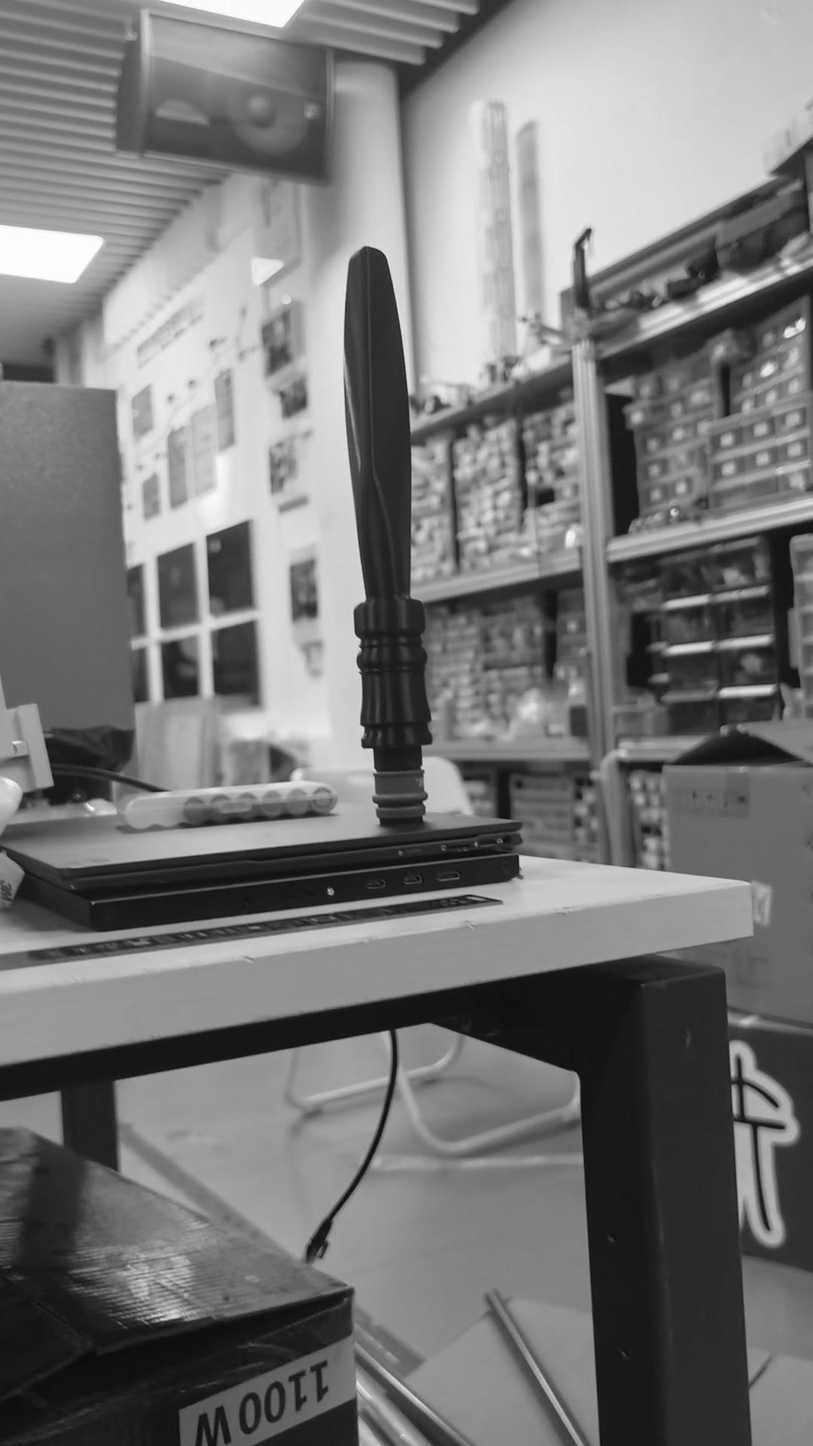base: (369, 768, 429, 823)
